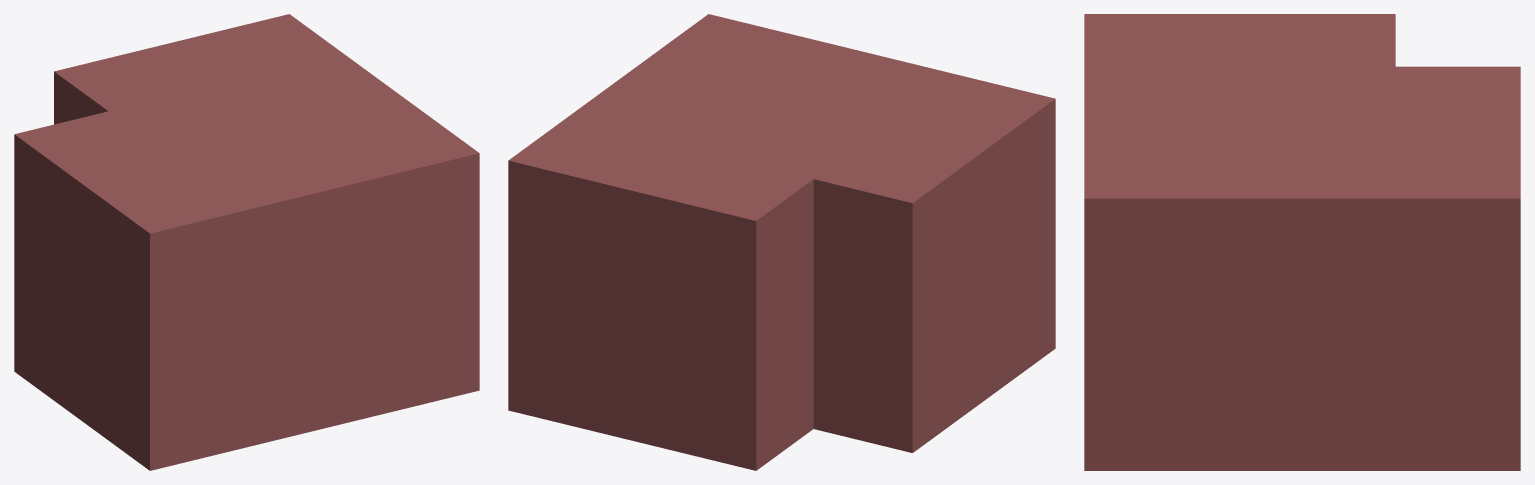
Rendered from capitello_corner.fbx.
3 renders of one model, left to right at view 1: azimuth 30°, elevation 25°; view 2: azimuth 150°, elevation 25°; view 3: azimuth 270°, elevation 25°, orthographic. The views are drawn at different scales.
Visible parts, largest first — view 1: capitello_angolo; view 2: capitello_angolo; view 3: capitello_angolo.
Boxes of the visible parts, bbox=[...] form: capitello_angolo: bbox=[14, 14, 479, 470]; capitello_angolo: bbox=[508, 14, 1055, 470]; capitello_angolo: bbox=[1084, 14, 1520, 470].
Bounding box in the file's own units: 0.7778 × 0.5352 × 0.7774.
